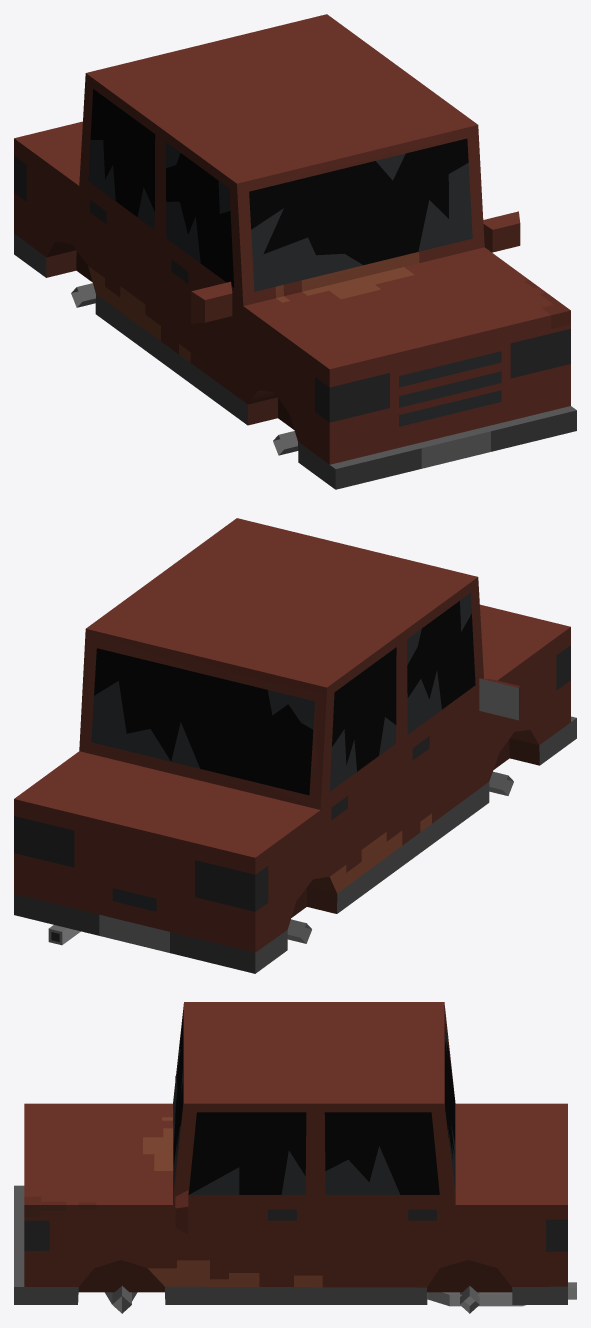
The model's file is SA_Prop_BurntBrown_FamilyCar_01.glb.
The picture shows the model from 3 angles, top to bottom: view 1: azimuth 30°, elevation 25°; view 2: azimuth 150°, elevation 25°; view 3: azimuth 270°, elevation 25°; orthographic projection. The views are drawn at different scales.
Parts seen in each view (by area): view 1: SA_Prop_BurntBrown_FamilyCar_01; view 2: SA_Prop_BurntBrown_FamilyCar_01; view 3: SA_Prop_BurntBrown_FamilyCar_01.
Boxes of the visible parts, x1,y1,x2,y2 form: SA_Prop_BurntBrown_FamilyCar_01: (14, 14, 576, 489); SA_Prop_BurntBrown_FamilyCar_01: (14, 518, 576, 973); SA_Prop_BurntBrown_FamilyCar_01: (14, 1002, 576, 1313).
Bounding box in the file's own units: 1.41 × 1.05 × 2.44.
Materials: 1 (1 with a texture image).
